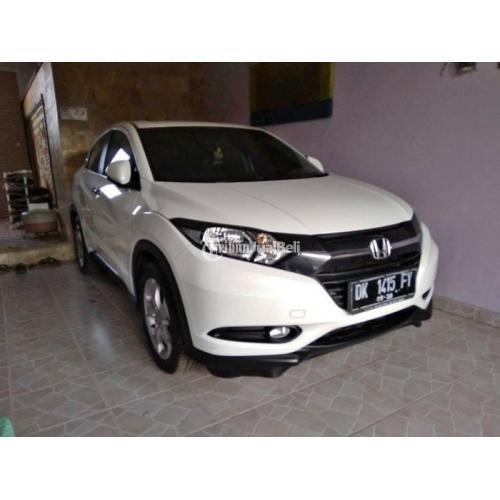plate: (349, 265, 418, 310)
